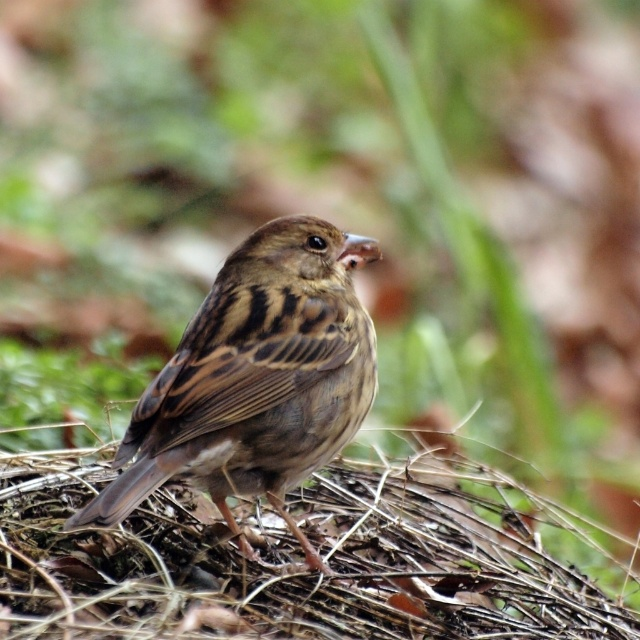Sparrow: (57, 206, 386, 578)
